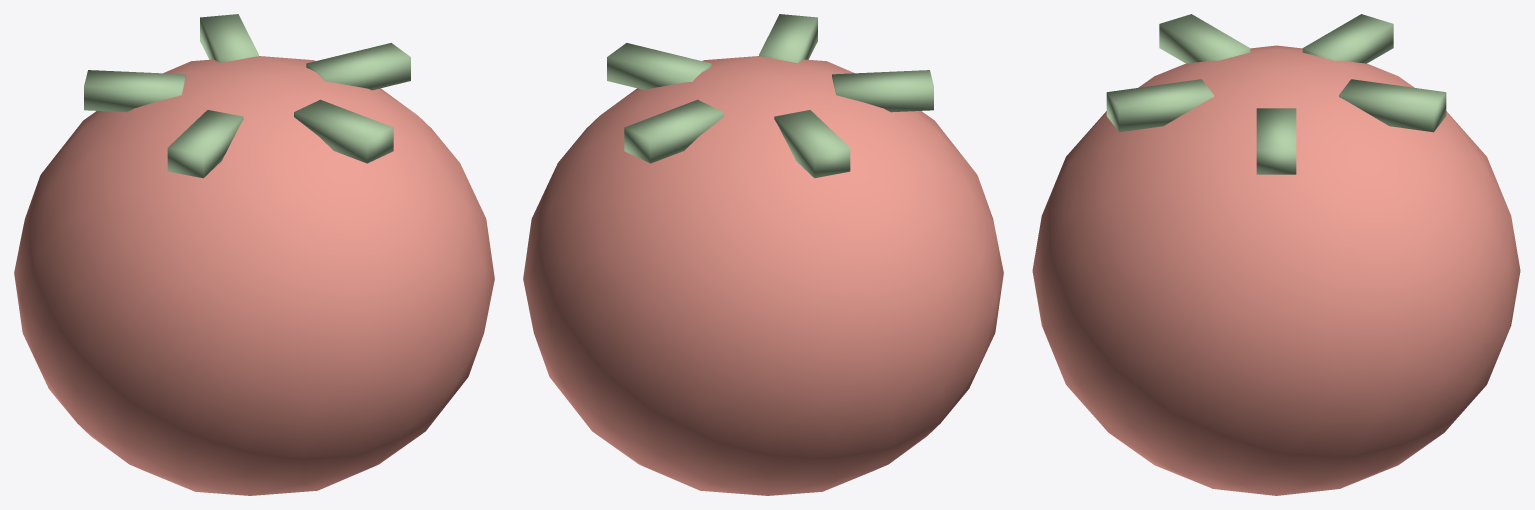
The model's file is fruit_tomato_m.glb.
3 views of the same model, side by side, from view 1: azimuth 30°, elevation 25°; view 2: azimuth 150°, elevation 25°; view 3: azimuth 270°, elevation 25° (orthographic).
Parts seen in each view (by area): view 1: fruit, calyx4, calyx2, calyx0, calyx3, calyx1; view 2: fruit, calyx1, calyx3, calyx0, calyx2, calyx4; view 3: fruit, calyx1, calyx4, calyx2, calyx3, calyx0.
Boxes of the visible parts, x1,y1,x2,y2 form: fruit: [14, 56, 494, 495]; calyx4: [294, 99, 393, 163]; calyx2: [84, 70, 185, 112]; calyx0: [306, 43, 410, 90]; calyx3: [167, 110, 243, 178]; calyx1: [200, 14, 258, 62]; fruit: [523, 56, 1003, 495]; calyx1: [624, 99, 723, 163]; calyx3: [832, 70, 933, 112]; calyx0: [607, 43, 711, 90]; calyx2: [774, 110, 850, 178]; calyx4: [759, 14, 817, 62]; fruit: [1032, 45, 1520, 495]; calyx1: [1339, 79, 1446, 132]; calyx4: [1106, 79, 1213, 132]; calyx2: [1302, 14, 1393, 63]; calyx3: [1159, 14, 1250, 63]; calyx0: [1256, 108, 1296, 174].
Size of the model in its own units: 0.022 by 0.02 by 0.022.
